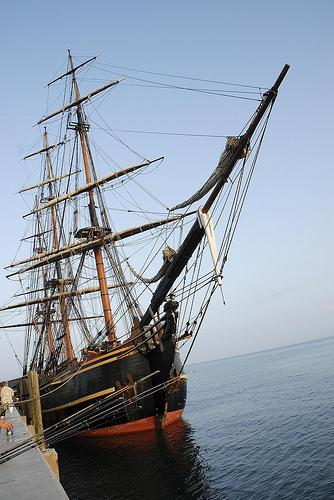Ship: (3, 51, 290, 437)
